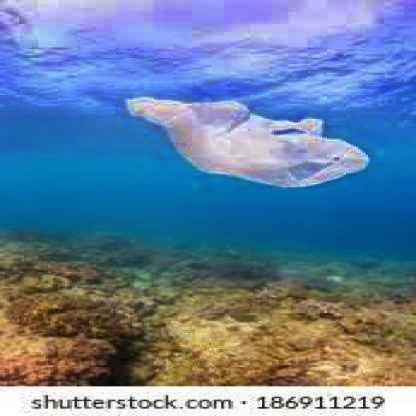pbag: (120, 94, 373, 188)
